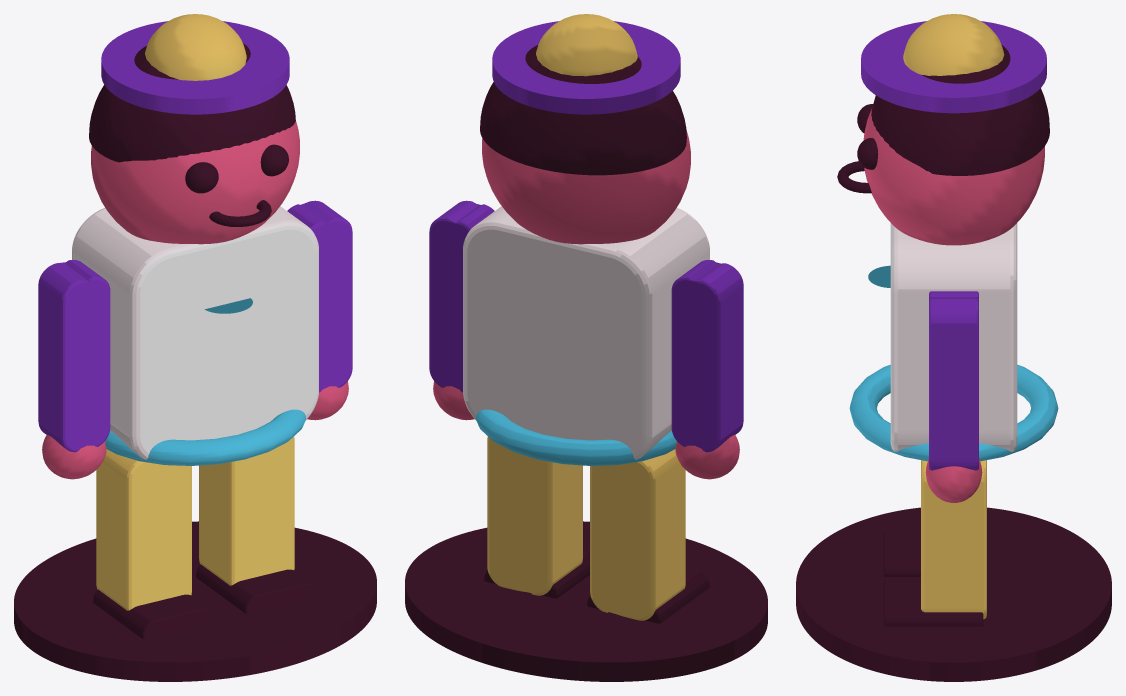
File: 1242_三国演义1_关羽·桃园结义.glb
3 views of the same model, side by side, from view 1: azimuth 30°, elevation 25°; view 2: azimuth 150°, elevation 25°; view 3: azimuth 270°, elevation 25° (orthographic).
Visible parts, largest first — view 1: card_1242; view 2: card_1242; view 3: card_1242.
Part boxes in pixels (x1,y1,x2,y2): card_1242: (14, 14, 376, 681); card_1242: (405, 14, 767, 681); card_1242: (796, 14, 1111, 681).
Size of the model in its own units: 0.576 by 1 by 0.49.
